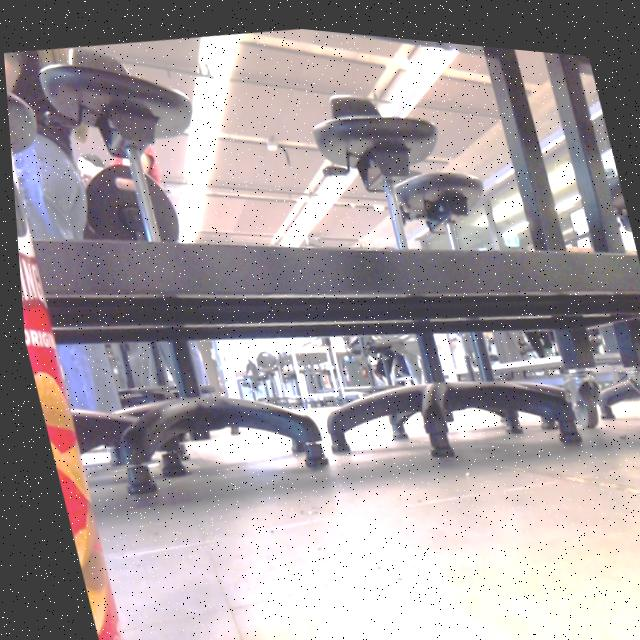redpringles: (3, 51, 151, 640)
